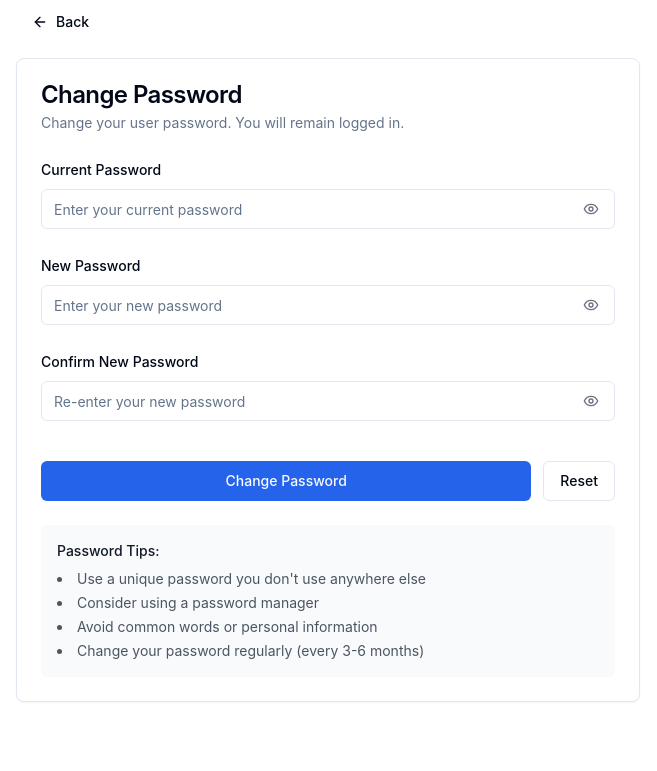
Test: ChangePasswordPage › Form Validation › should show error when new password is same as current password
The width and height of the screenshot is (657, 771).
Type "SamePass123!" into the password field labelled "Current Password" at (328, 209), box [41, 189, 615, 229]
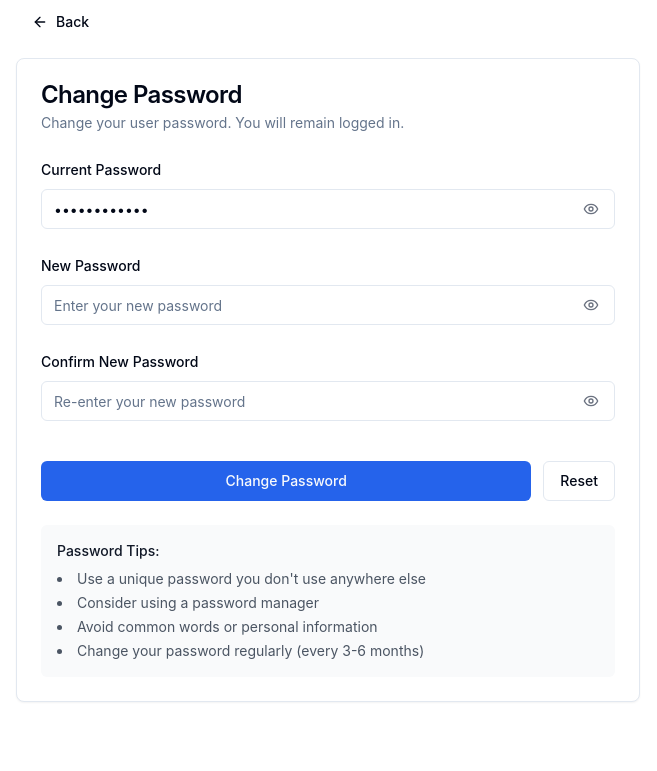
Type "SamePass123!" into the password field labelled "New Password" at (328, 305), box [41, 285, 615, 325]
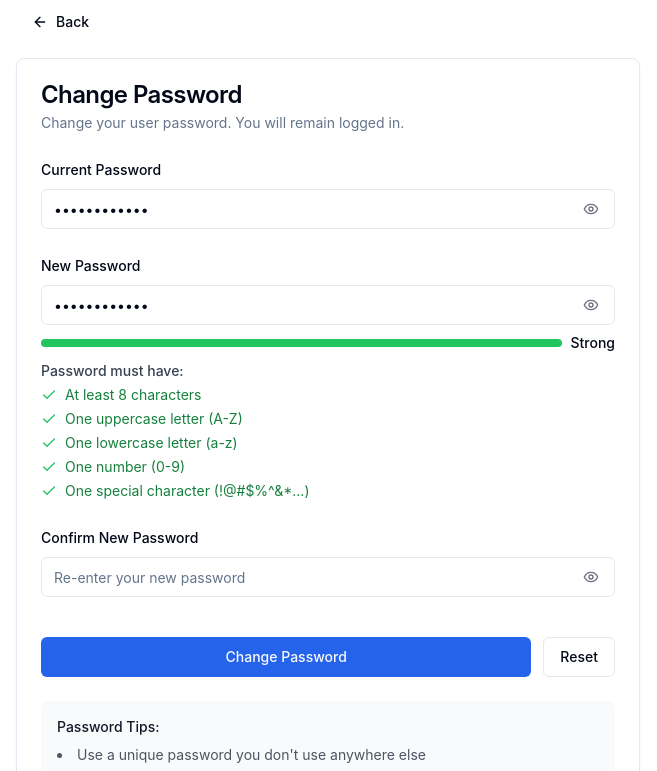
Type "SamePass123!" into the password field labelled "Confirm New Password" at (328, 577), box [41, 557, 615, 597]
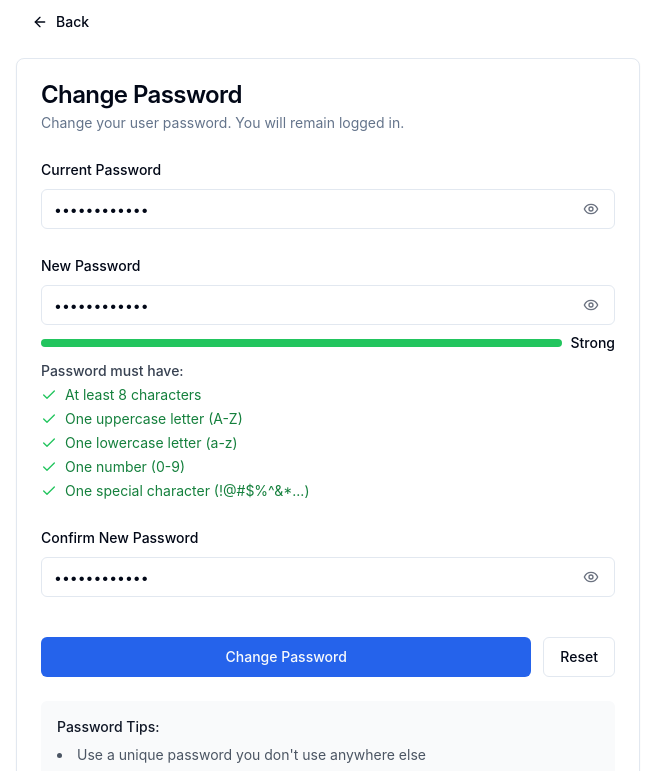
Click the button "Change Password" at (286, 657), box [41, 637, 531, 677]
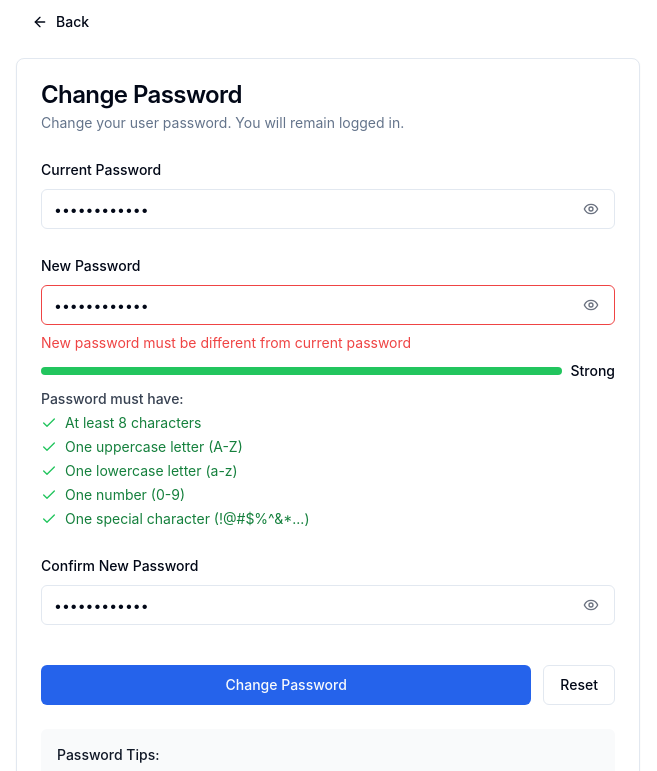
Expected: the text "New password must be different from current password" is shown, [41, 334, 411, 351]
